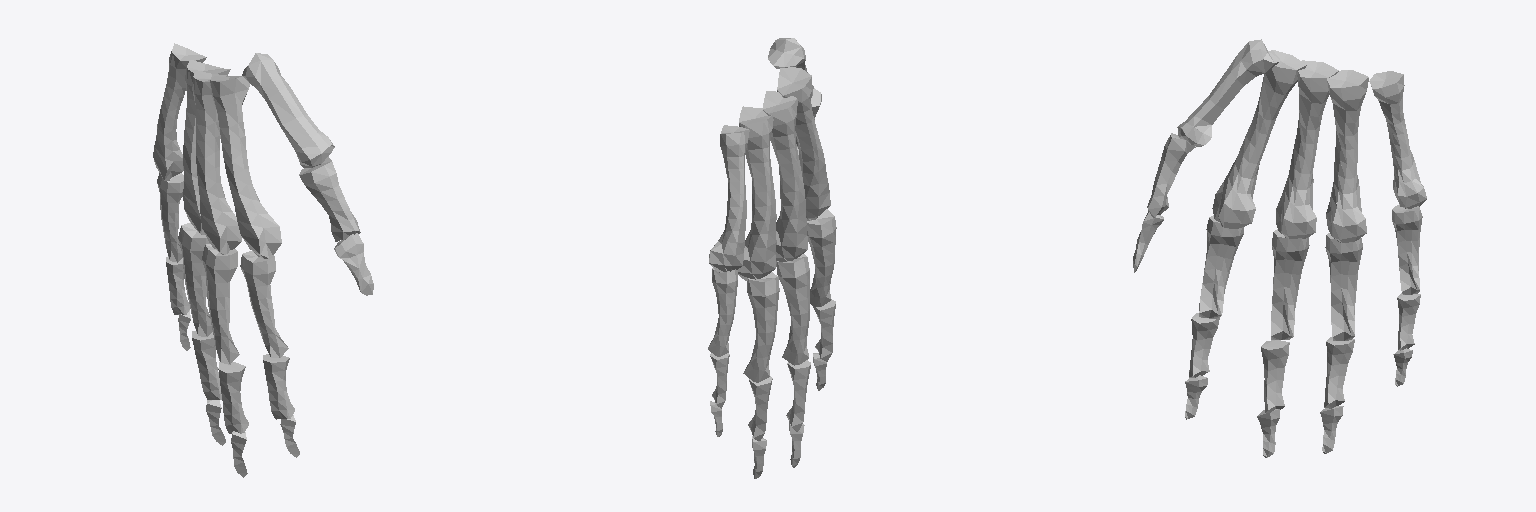
The model's file is lefthand.obj.
3 views of the same model, side by side, from view 1: azimuth 30°, elevation 25°; view 2: azimuth 150°, elevation 25°; view 3: azimuth 270°, elevation 25° (orthographic).
Visible parts, largest first — view 1: polySurface127 Group4:mcarple20, polySurface181 Group4:metacpl10, polySurface312 Group4:mcarpal30, polySurface193 Group4:phalx3p0, Group4:phalanx20 polySurface379, Group4:phalx4p0 polySurface255, polySurface357 Group4:mcarpal50, polySurface335 Group4:mcarpal40, Group4:phalng1p0 polySurface239, Group4:phalx5p0 polySurface284, Group4:phalx3m0 polySurface301, Group4:phalx4m0 polySurface169 (+6 smaller); view 2: polySurface335 Group4:mcarpal40, polySurface312 Group4:mcarpal30, polySurface357 Group4:mcarpal50, polySurface127 Group4:mcarple20, polySurface193 Group4:phalx3p0, Group4:phalx4p0 polySurface255, Group4:phalanx20 polySurface379, Group4:phalx5p0 polySurface284, polySurface181 Group4:metacpl10, Group4:mcarple20 polySurface129; view 3: polySurface335 Group4:mcarpal40, polySurface127 Group4:mcarple20, polySurface312 Group4:mcarpal30, polySurface181 Group4:metacpl10, polySurface193 Group4:phalx3p0, Group4:phalanx20 polySurface379, polySurface357 Group4:mcarpal50, Group4:phalx4p0 polySurface255, Group4:phalx5p0 polySurface284, Group4:phalng1p0 polySurface239, Group4:phalx3m0 polySurface299, Group4:phalx4m0 polySurface167 (+10 smaller).
Boxes of the visible parts, <box> form: polySurface127 Group4:mcarple20: <box>210,76,281,258</box>; polySurface181 Group4:metacpl10: <box>242,53,334,167</box>; polySurface312 Group4:mcarpal30: <box>192,76,241,254</box>; polySurface193 Group4:phalx3p0: <box>202,245,239,364</box>; Group4:phalanx20 polySurface379: <box>240,255,288,357</box>; Group4:phalx4p0 polySurface255: <box>178,226,212,336</box>; polySurface357 Group4:mcarpal50: <box>153,51,206,179</box>; polySurface335 Group4:mcarpal40: <box>183,68,230,234</box>; Group4:phalng1p0 polySurface239: <box>300,162,360,241</box>; Group4:phalx5p0 polySurface284: <box>157,173,183,262</box>; Group4:phalx3m0 polySurface301: <box>218,369,248,433</box>; Group4:phalx4m0 polySurface169: <box>192,338,221,399</box>; polySurface335 Group4:mcarpal40: <box>738,115,776,277</box>; polySurface312 Group4:mcarpal30: <box>763,99,807,258</box>; polySurface357 Group4:mcarpal50: <box>709,130,749,272</box>; polySurface127 Group4:mcarple20: <box>777,86,830,218</box>; polySurface193 Group4:phalx3p0: <box>776,257,809,365</box>; Group4:phalx4p0 polySurface255: <box>743,277,779,382</box>; Group4:phalanx20 polySurface379: <box>807,217,836,306</box>; Group4:phalx5p0 polySurface284: <box>710,269,737,356</box>; polySurface181 Group4:metacpl10: <box>768,38,813,95</box>; Group4:mcarple20 polySurface129: <box>777,67,811,95</box>; polySurface335 Group4:mcarpal40: <box>1326,78,1368,242</box>; polySurface127 Group4:mcarple20: <box>1212,65,1306,228</box>; polySurface312 Group4:mcarpal30: <box>1276,71,1338,238</box>; polySurface181 Group4:metacpl10: <box>1177,39,1280,146</box>; polySurface193 Group4:phalx3p0: <box>1271,232,1309,339</box>; Group4:phalanx20 polySurface379: <box>1199,218,1243,318</box>; polySurface357 Group4:mcarpal50: <box>1371,75,1426,208</box>; Group4:phalx4p0 polySurface255: <box>1325,235,1362,340</box>; Group4:phalx5p0 polySurface284: <box>1392,208,1422,294</box>; Group4:phalng1p0 polySurface239: <box>1147,135,1195,217</box>; Group4:phalx3m0 polySurface299: <box>1267,343,1289,409</box>; Group4:phalx4m0 polySurface167: <box>1328,340,1354,407</box>.
Size of the model in its own units: 0.3062 by 1.37 by 0.8615.